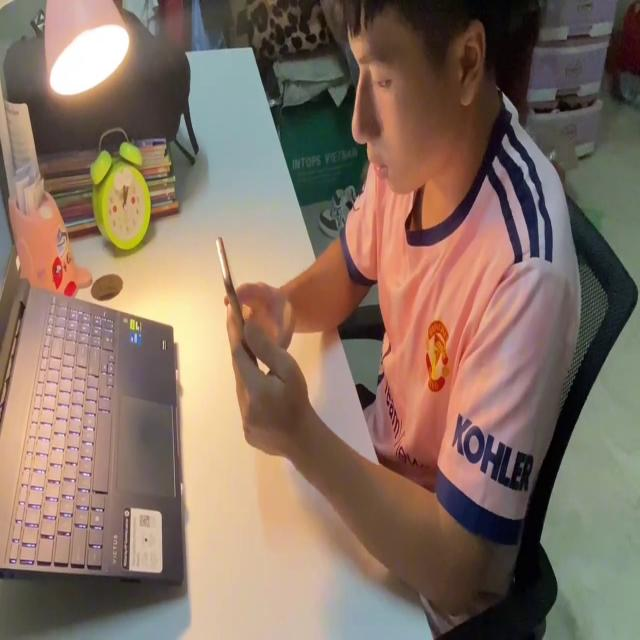laptop: (1, 173, 187, 595)
phone: (216, 232, 260, 369)
student: (222, 0, 584, 618)
